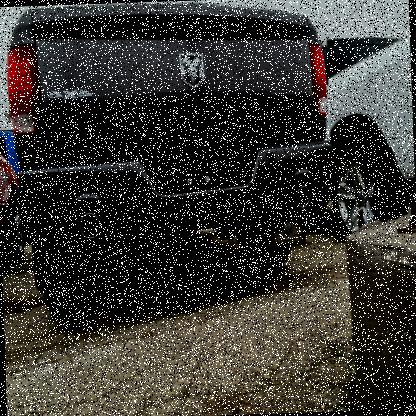Car: (5, 0, 336, 315), (299, 36, 415, 239), (0, 130, 24, 265)
